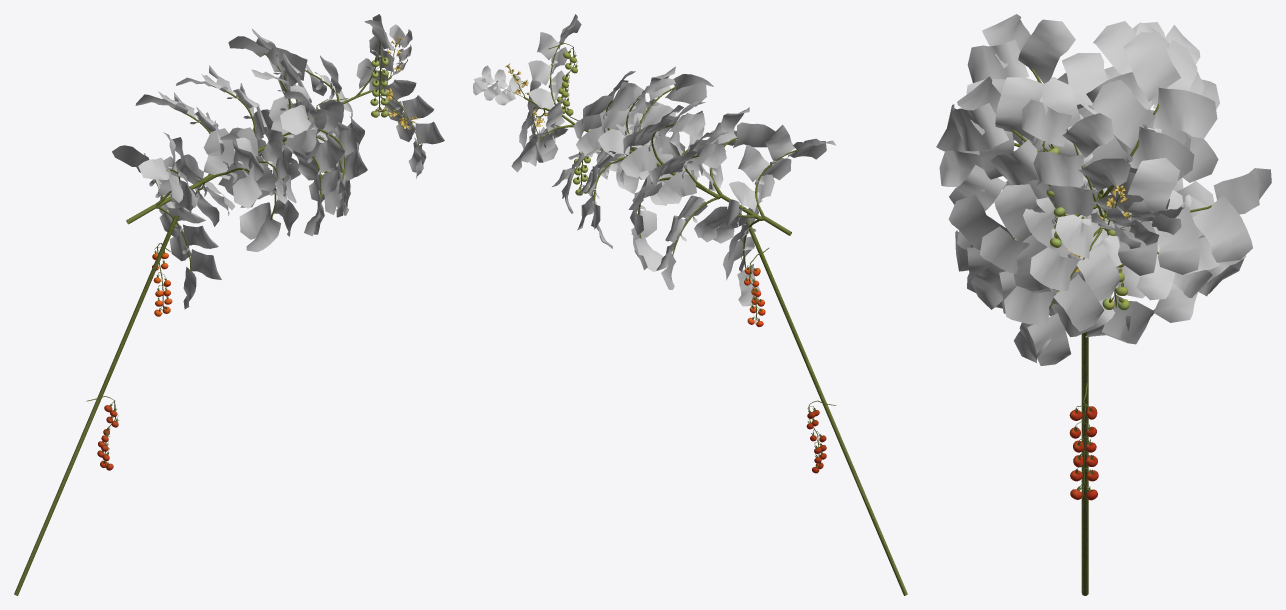
Rendered from tomato_vine_repo_v3.dae.
3 views of the same model, side by side, from view 1: azimuth 30°, elevation 25°; view 2: azimuth 150°, elevation 25°; view 3: azimuth 270°, elevation 25° (orthographic). The views are drawn at different scales.
Visible parts, largest first — view 1: Leaf1, Branch1, Sphere.025; view 2: Leaf1, Branch1, Sphere.025; view 3: Leaf1, Branch1, Sphere.001, Sphere.025.
Part boxes in pixels (box(x1,y1,x2,y2)): Leaf1: box(112, 14, 444, 309); Branch1: box(14, 40, 418, 595); Sphere.025: box(324, 57, 388, 172); Leaf1: box(473, 14, 835, 306); Branch1: box(488, 42, 907, 595); Sphere.025: box(556, 52, 590, 195); Leaf1: box(936, 14, 1271, 365); Branch1: box(1011, 68, 1211, 595); Sphere.001: box(1069, 406, 1098, 500); Sphere.025: box(1046, 146, 1129, 310).
Size of the model in its own units: 1.84 by 0.8286 by 2.12.
